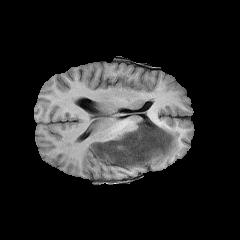glioma: (88, 110, 179, 167)
